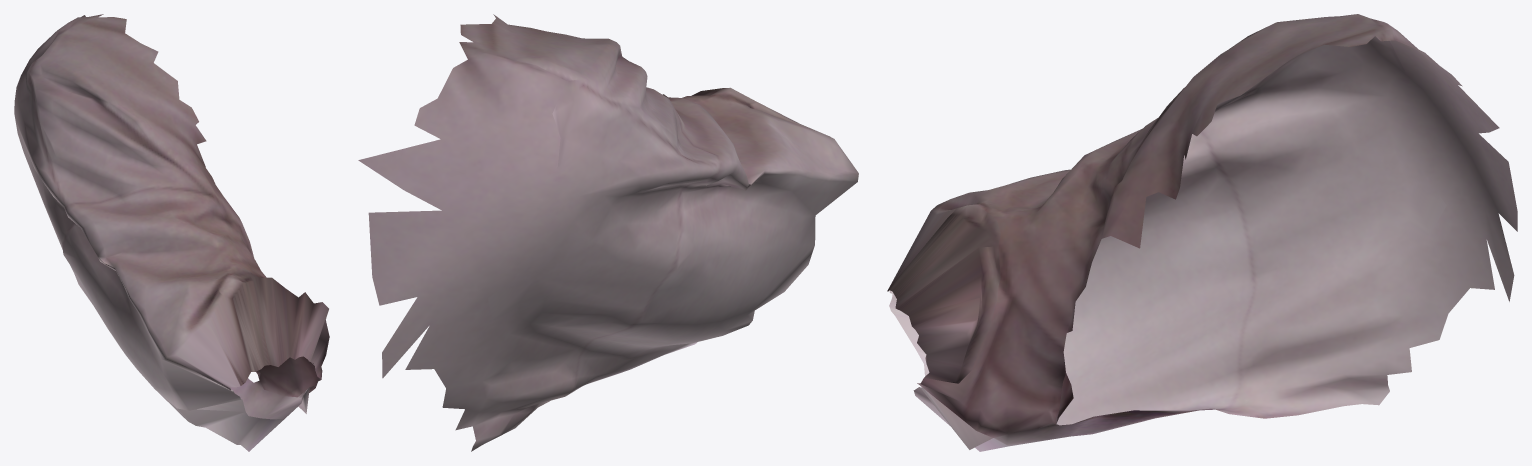
Rendered from rightArm.obj.
3 renders of one model, left to right at view 1: azimuth 30°, elevation 25°; view 2: azimuth 150°, elevation 25°; view 3: azimuth 270°, elevation 25°, orthographic. The views are drawn at different scales.
Visible parts, largest first — view 1: rightArm; view 2: rightArm; view 3: rightArm.
Part boxes in pixels (bbox=[...]): rightArm: bbox=[14, 14, 329, 451]; rightArm: bbox=[358, 14, 858, 451]; rightArm: bbox=[887, 14, 1517, 451].
Size of the model in its own units: 1.7 by 2.96 by 4.05.
1 material, 1 textured.
